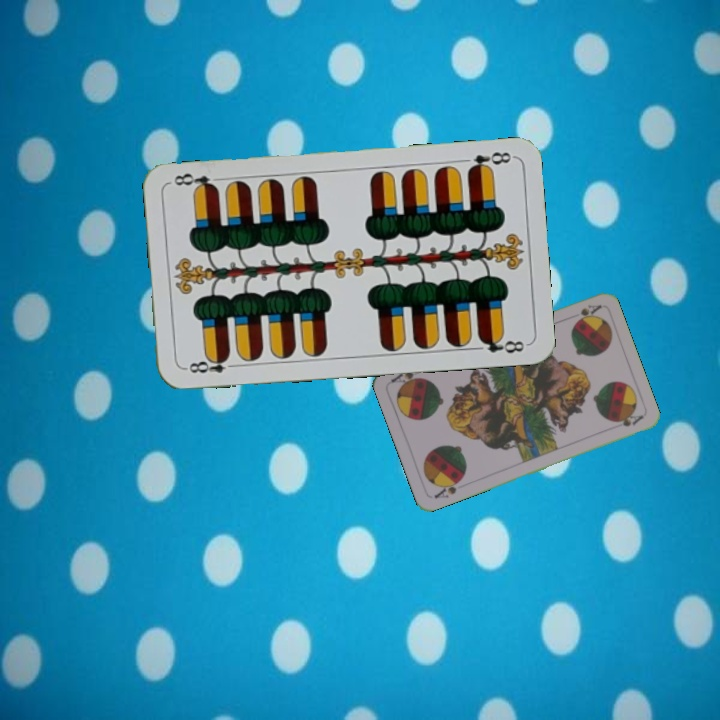E8: (181, 351, 240, 376), (463, 147, 515, 175)
SA: (430, 474, 466, 501), (572, 301, 604, 324)
